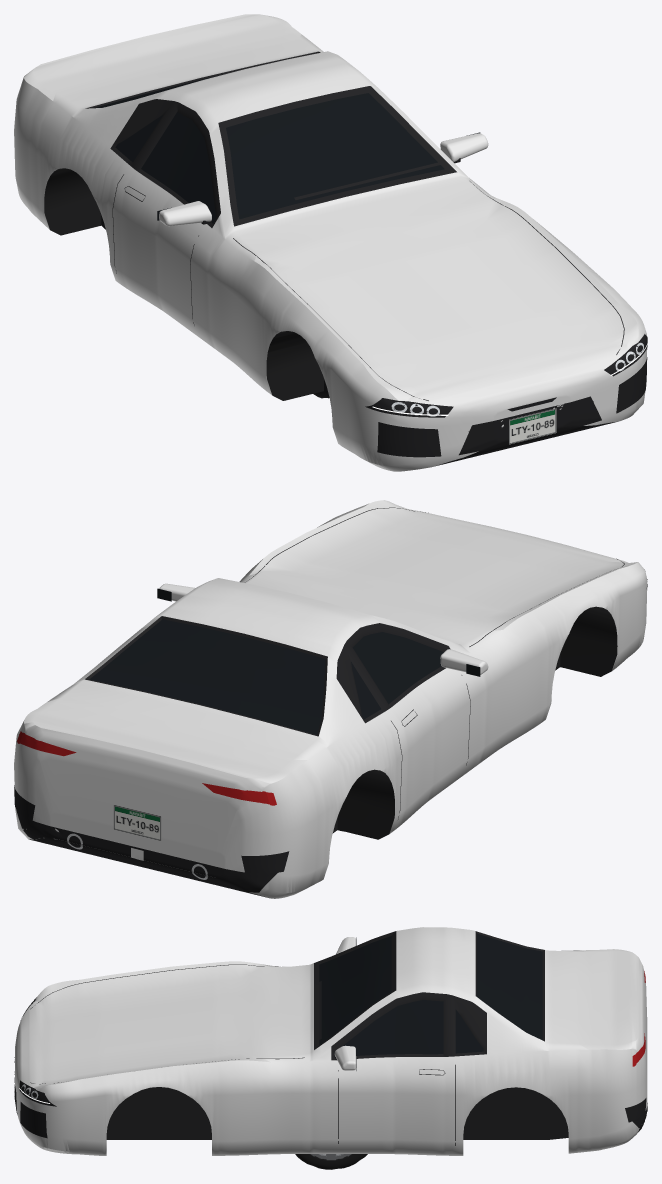
Rendered from toyota-supra.glb.
3 views of the same model, one above another, from view 1: azimuth 30°, elevation 25°; view 2: azimuth 150°, elevation 25°; view 3: azimuth 270°, elevation 25° (orthographic). The views are drawn at different scales.
Parts seen in each view (by area): view 1: body; view 2: body; view 3: body, wheel.
Part boxes in pixels (<box>): body: <box>14,14,647,471</box>; body: <box>14,500,647,898</box>; body: <box>14,927,647,1155</box>; wheel: <box>295,1154,367,1169</box>.
Bounding box in the file's own units: 2.07 × 1.62 × 4.38.
1 material, 1 textured.
